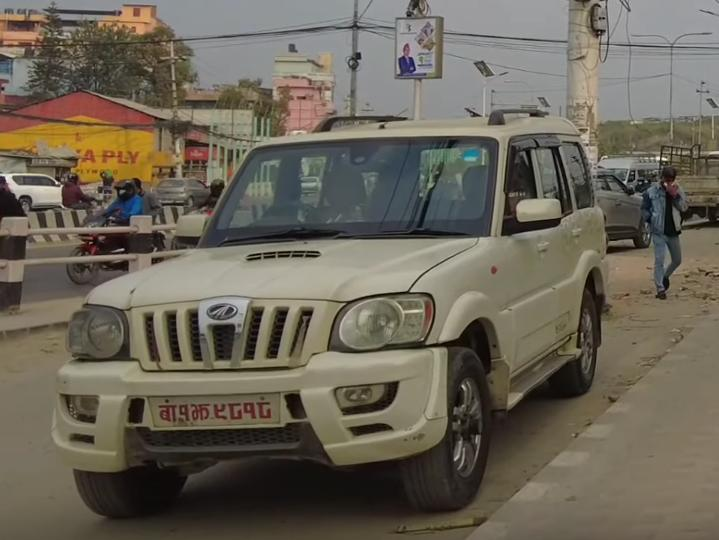SUV: (33, 105, 615, 515)
car: (592, 164, 654, 249)
